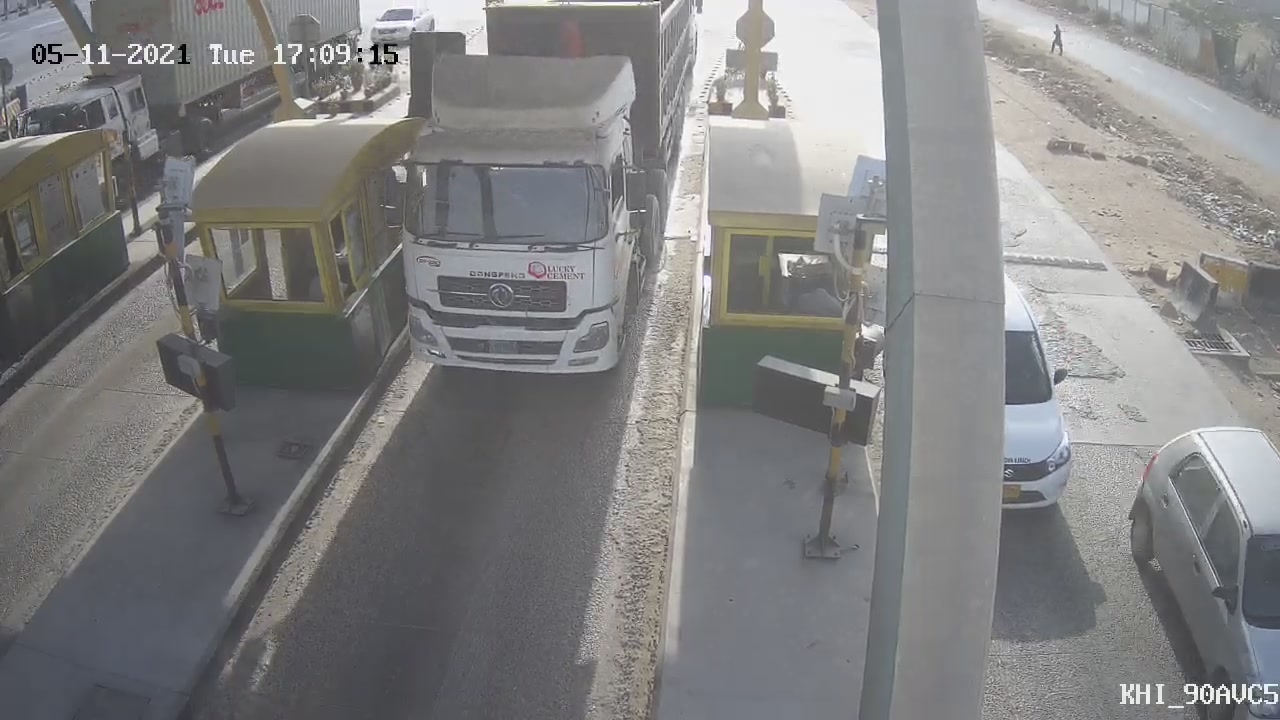F6: (364, 1, 713, 392)
